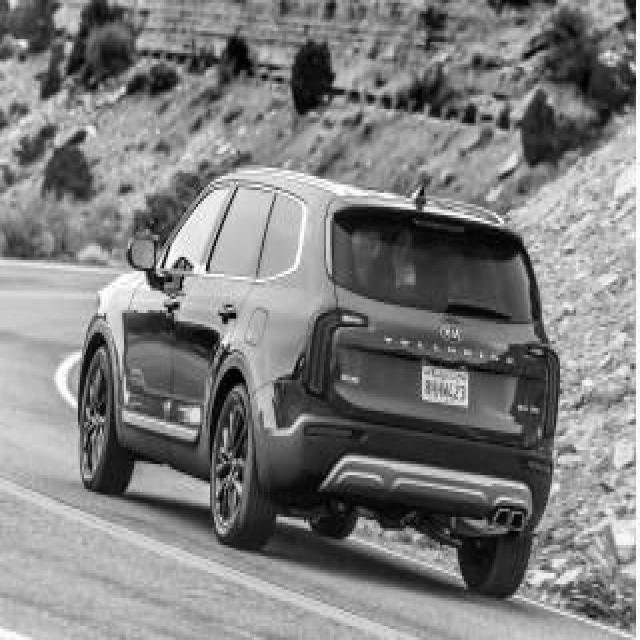Car: (80, 169, 559, 595)
